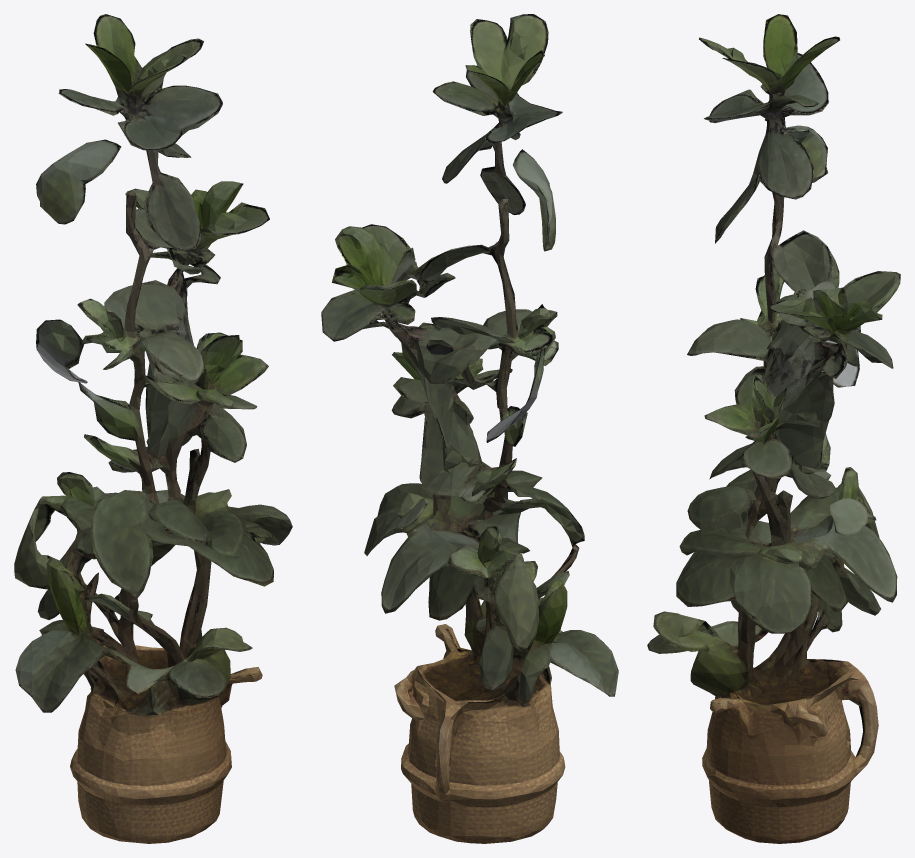
The picture shows the model from 3 angles, left to right: view 1: azimuth 30°, elevation 25°; view 2: azimuth 150°, elevation 25°; view 3: azimuth 270°, elevation 25°; orthographic projection.
Visible parts, largest first — view 1: world; view 2: world; view 3: world.
Boxes of the visible parts, bbox=[...] form: world: bbox=[14, 14, 292, 843]; world: bbox=[321, 14, 618, 843]; world: bbox=[647, 14, 900, 843].
Bounding box in the file's own units: 0.335 × 0.9993 × 0.2971.
1 material, 1 textured.
